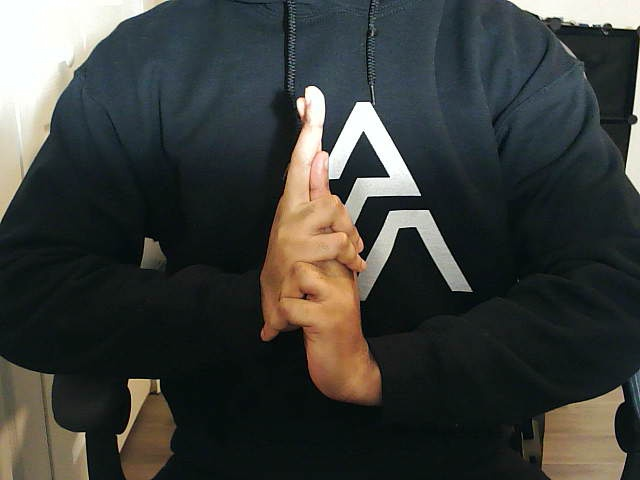Ram: (259, 84, 379, 407)
